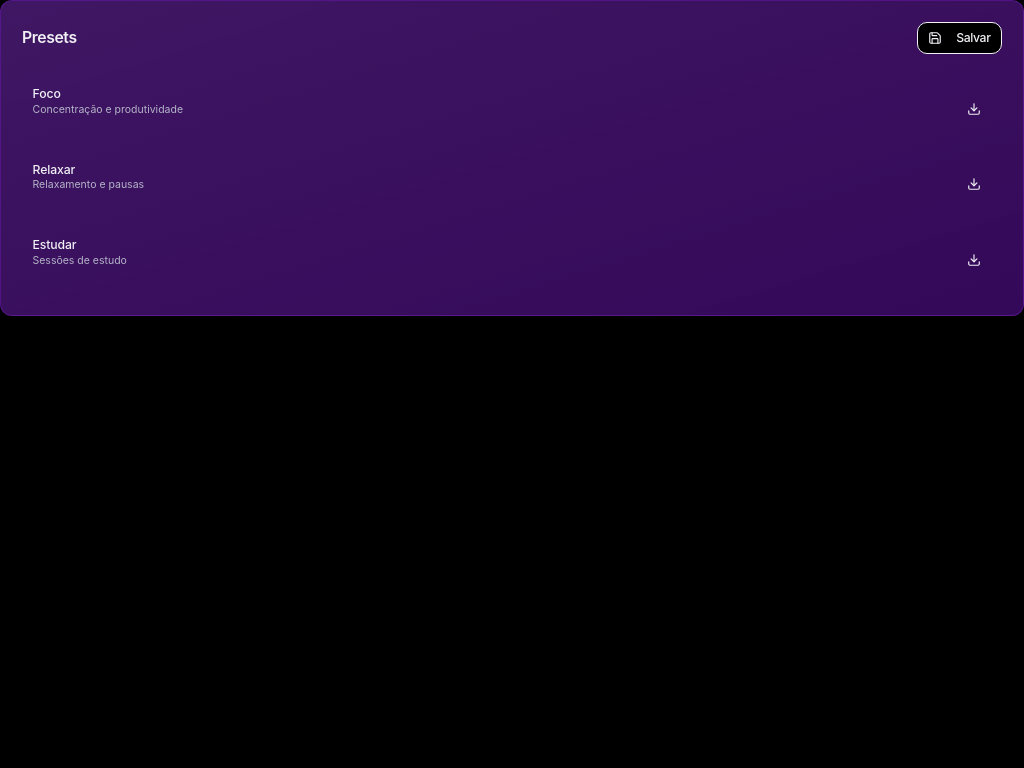
it: PresetManager › permite abrir modal e salvar um novo preset
Click the button "Salvar": (959, 38) [917, 22, 1002, 54]
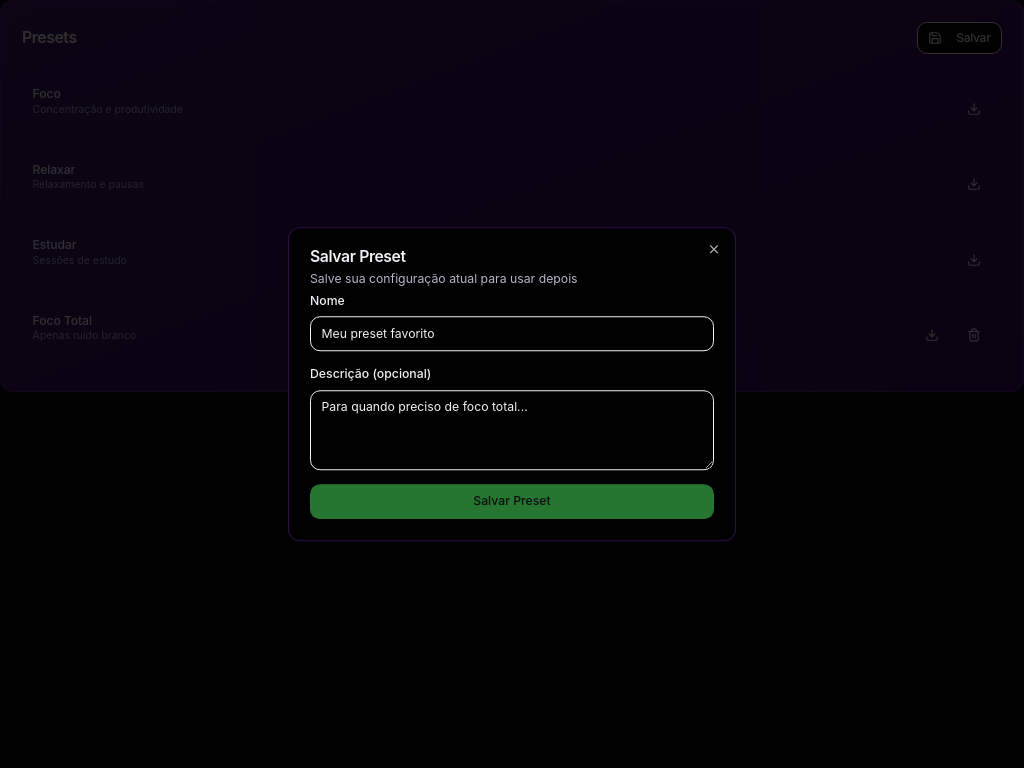
Expected: the heading "Salvar Preset" is shown, [310, 247, 406, 266]
In the field with placeholder "Meu preset favorito": (512, 334) [310, 316, 714, 351], type "Novo Preset"
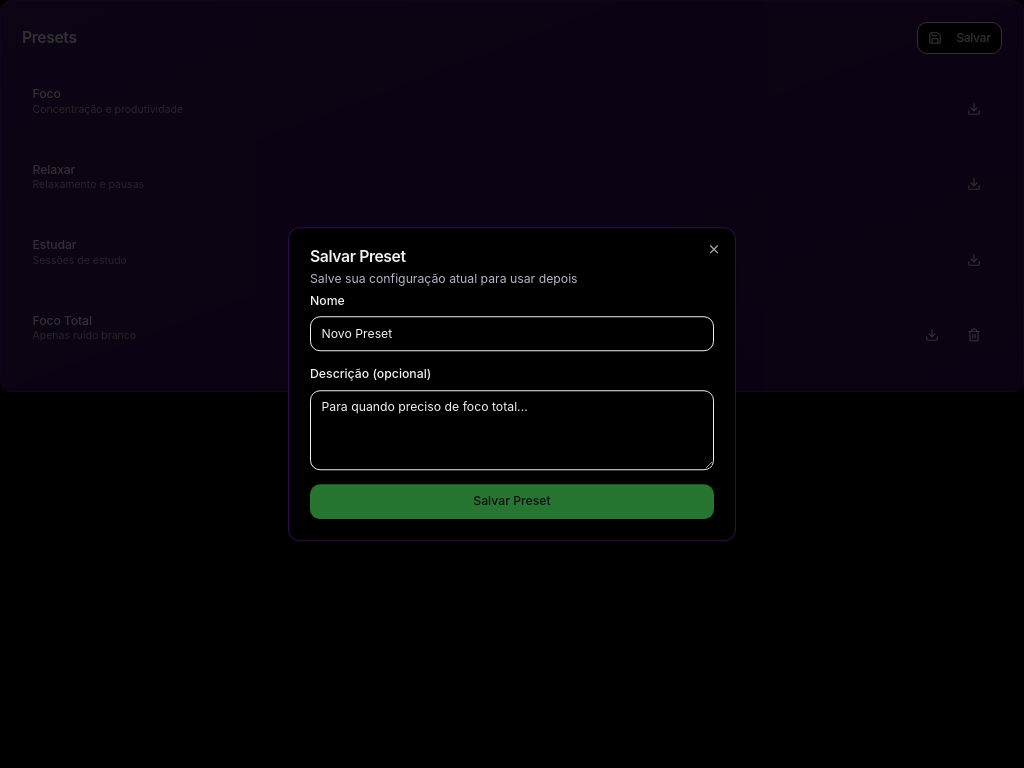
In the text box with placeholder "Para quando preciso de foco total...": (512, 430) [310, 390, 714, 470], type "Teste de salvamento"
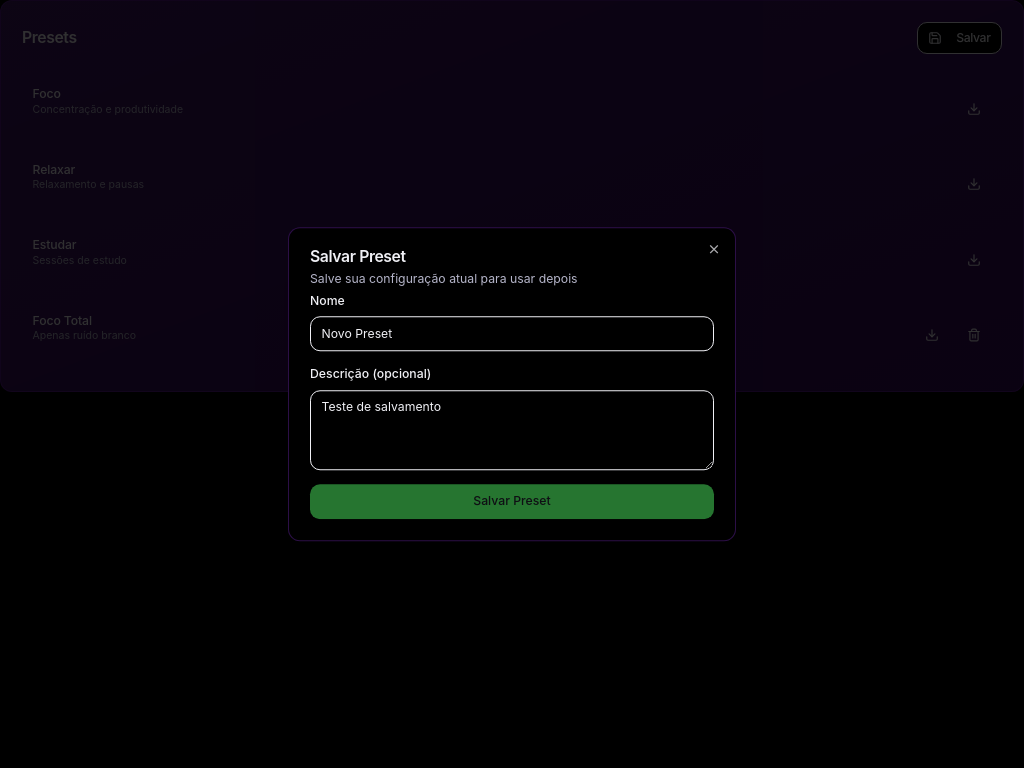
Click the button "Salvar Preset": (512, 501) [310, 484, 714, 519]
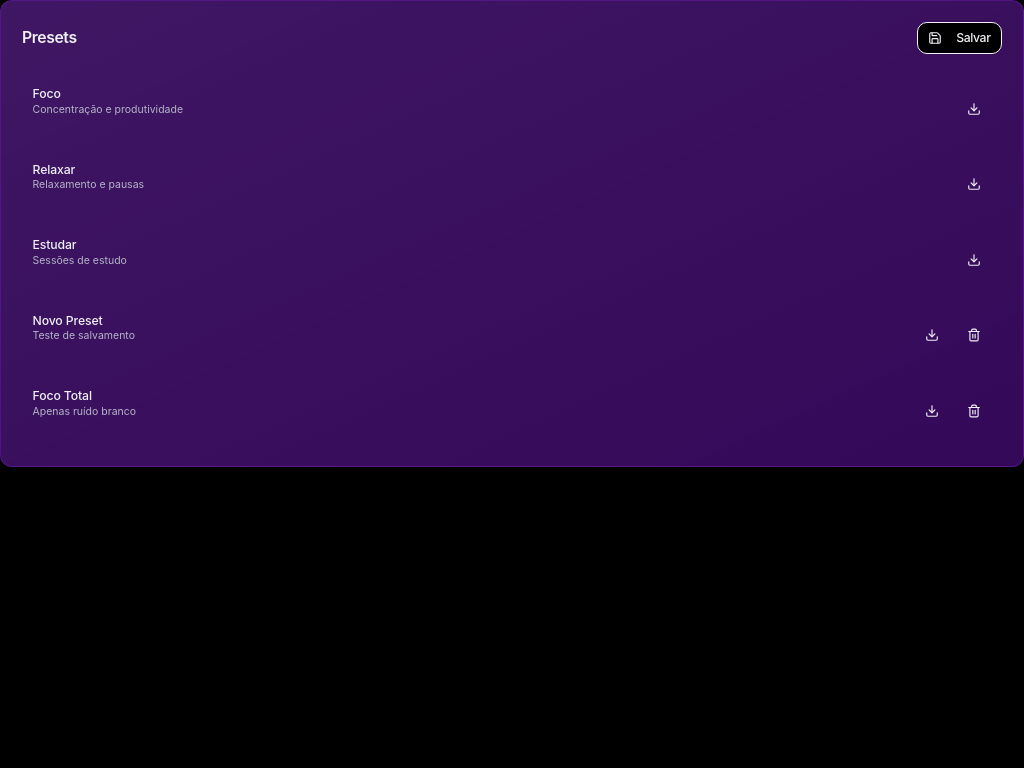
Expected: the heading "Novo Preset" is shown, [32, 312, 103, 328]
